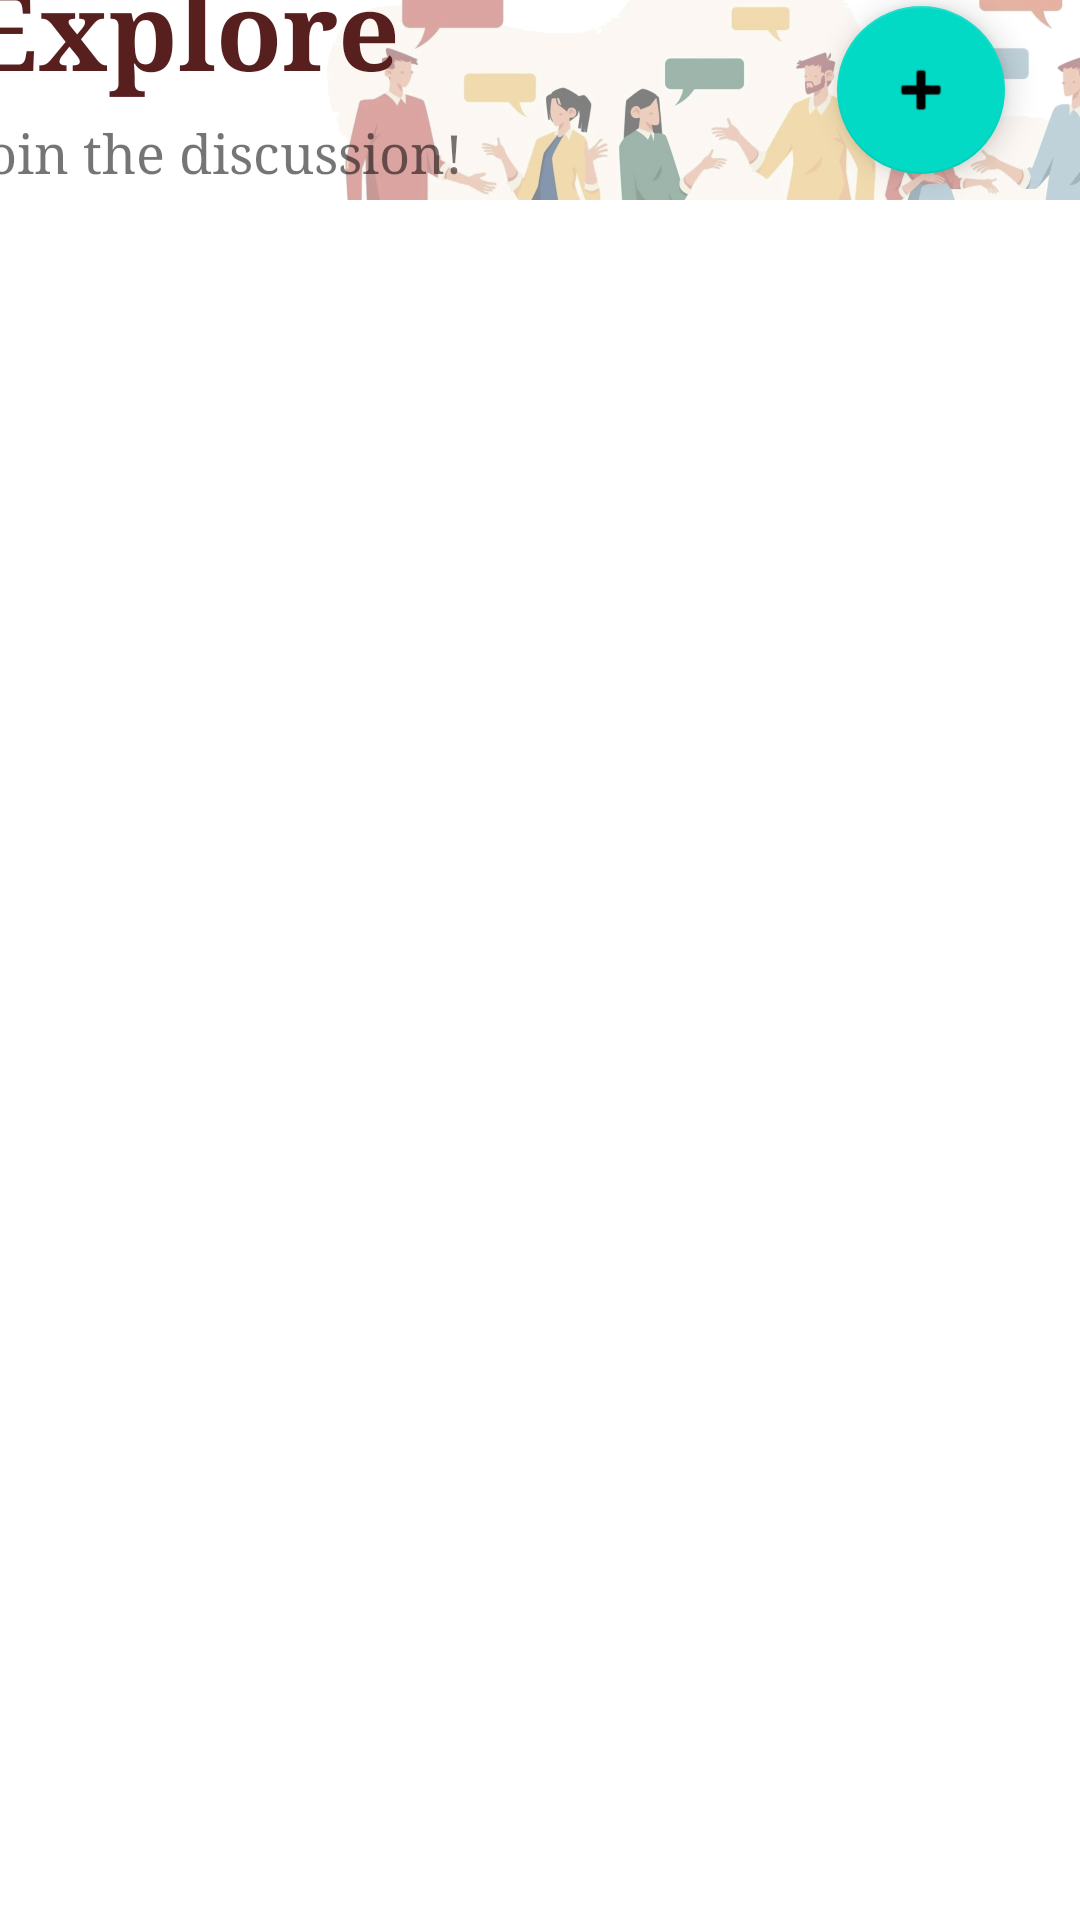

Screen size 1080w x 1920h. Icon name, then its center in pixels as (x,y):
add: (921,90)
